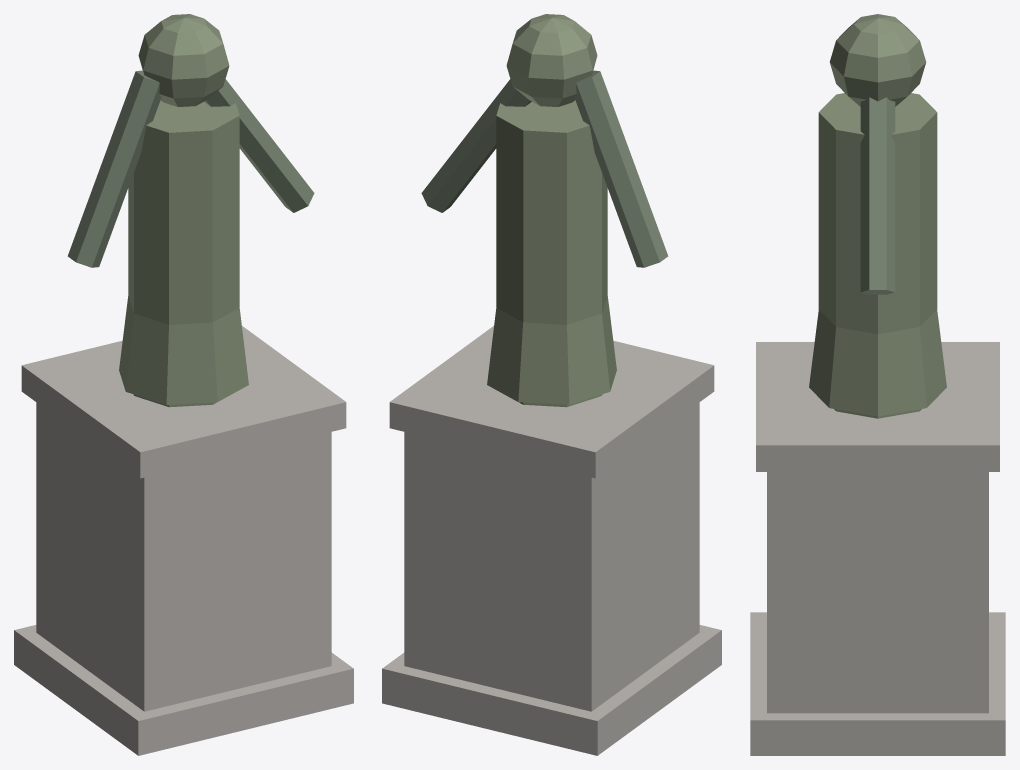
The model's file is statue.glb.
3 views of the same model, side by side, from view 1: azimuth 30°, elevation 25°; view 2: azimuth 150°, elevation 25°; view 3: azimuth 270°, elevation 25° (orthographic). The views are drawn at different scales.
Visible parts, largest first — view 1: Statue; view 2: Statue; view 3: Statue.
Part boxes in pixels (box(x1,y1,x2,y2)): Statue: box(14, 14, 353, 755); Statue: box(382, 14, 721, 755); Statue: box(750, 14, 1005, 755).
Bounding box in the file's own units: 0.5733 × 1.53 × 0.5175.
